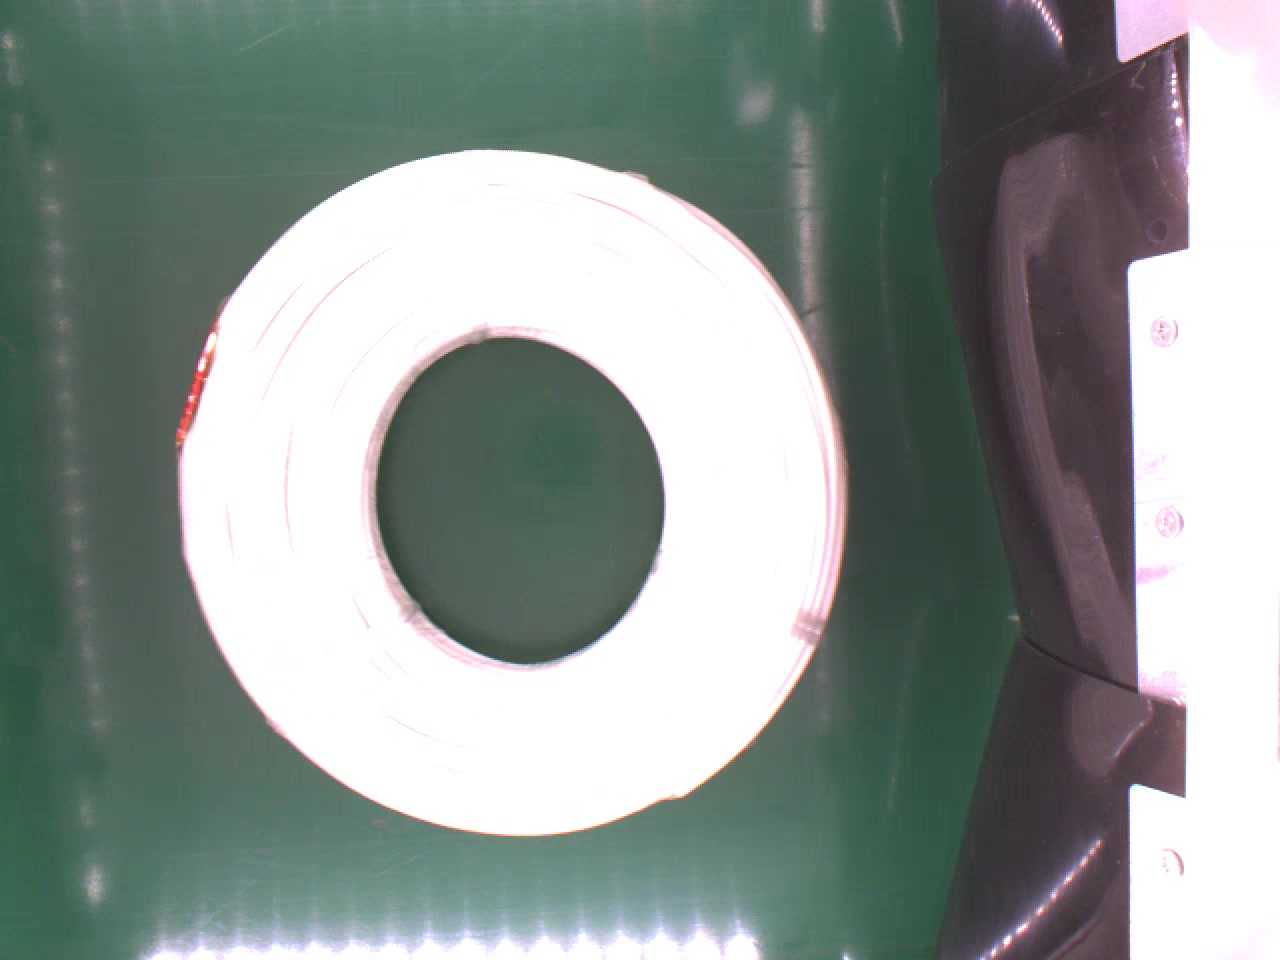white: (167, 144, 847, 840)
